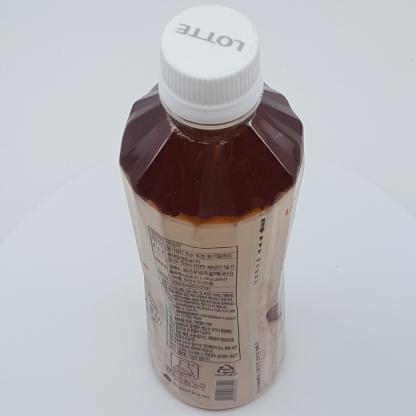----------500ML: (118, 4, 305, 410)
